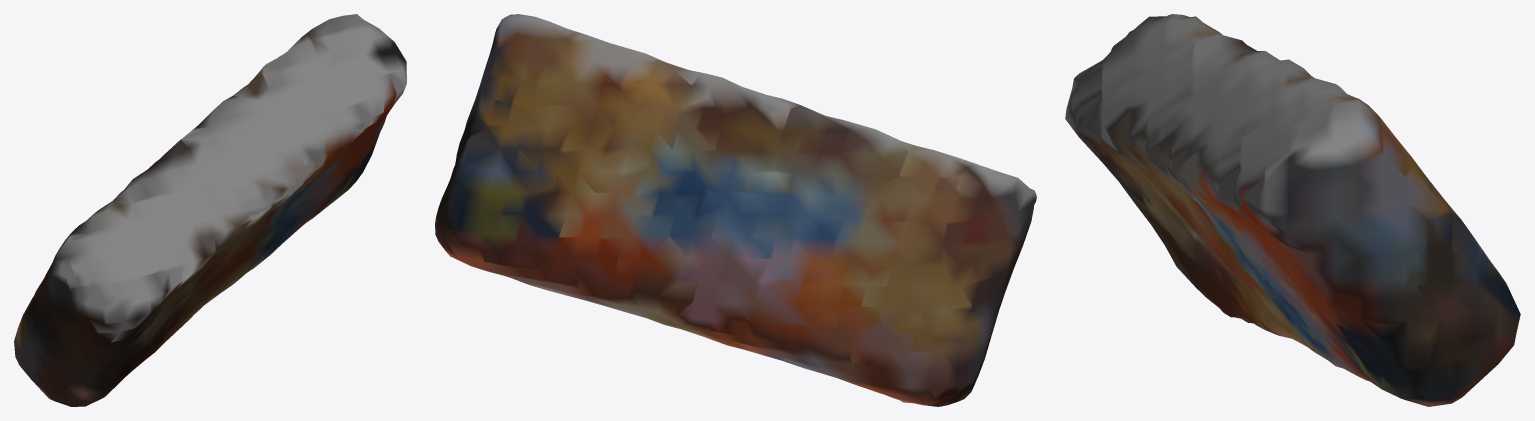
File: haoliyou.obj
The picture shows the model from 3 angles, left to right: view 1: azimuth 30°, elevation 25°; view 2: azimuth 150°, elevation 25°; view 3: azimuth 270°, elevation 25°; orthographic projection. The views are drawn at different scales.
Bounding box in the file's own units: 0.1928 × 0.1289 × 0.1302.
